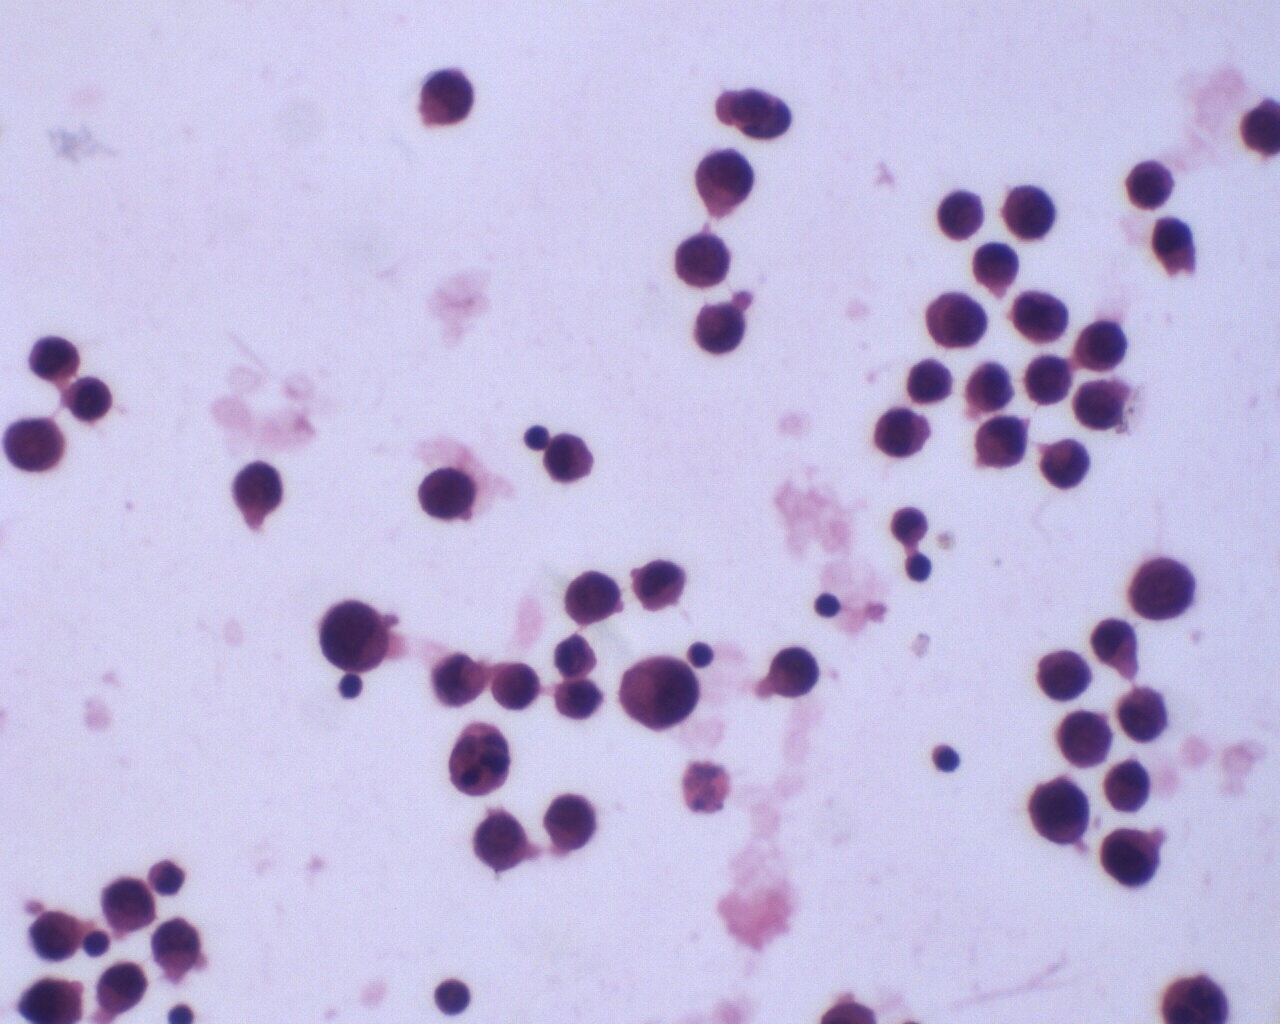ab: (616, 653, 705, 734), (316, 598, 392, 674), (1125, 556, 1201, 625), (692, 150, 758, 220), (1028, 776, 1092, 845), (923, 288, 990, 353), (1098, 823, 1162, 890), (3, 412, 67, 478), (429, 647, 490, 714), (672, 229, 734, 294), (415, 63, 472, 132), (417, 463, 480, 526), (869, 402, 934, 462), (1055, 709, 1117, 771), (470, 808, 529, 872), (97, 875, 158, 935), (545, 788, 600, 855), (561, 564, 621, 625), (692, 299, 748, 359), (935, 184, 990, 247), (1113, 685, 1168, 746), (1035, 648, 1093, 705), (1075, 315, 1133, 372), (764, 643, 821, 700), (1001, 182, 1056, 241), (1013, 287, 1069, 345), (145, 916, 202, 974), (1039, 437, 1094, 495), (24, 332, 86, 385), (1069, 376, 1125, 432), (962, 360, 1019, 416), (1101, 757, 1154, 816), (1123, 157, 1178, 212), (95, 958, 148, 1014), (492, 660, 545, 714), (1023, 355, 1075, 410), (968, 242, 1021, 295), (904, 355, 956, 406), (549, 673, 602, 723), (67, 371, 113, 425)
lymph: (432, 972, 471, 1019), (810, 585, 850, 625), (929, 739, 965, 778), (520, 422, 555, 452)
